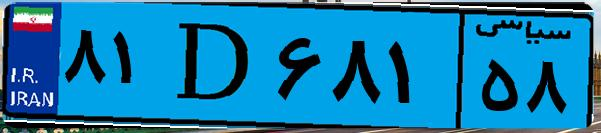1: (385, 28, 445, 110), (110, 28, 158, 98)
5: (475, 38, 525, 113)
6: (270, 28, 330, 110)
8: (330, 28, 385, 110), (57, 26, 110, 100), (525, 38, 570, 115)
D: (158, 12, 270, 120)
